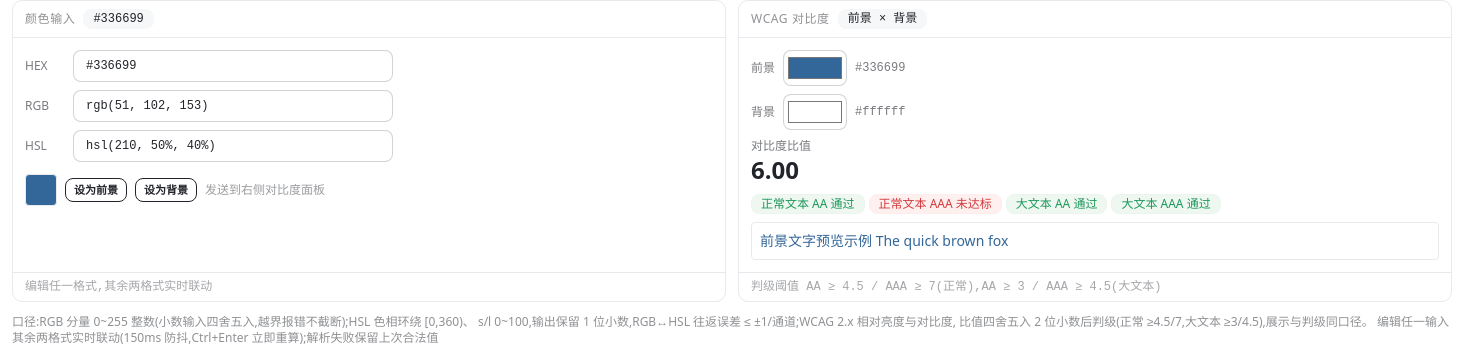
Test: ColorTool 三格式联动与对比度 › 编辑 HSL:HEX 联动
The width and height of the screenshot is (1464, 361).
Type "hsl(120, 100%, 25%)" into the field with test id "color-hsl" at (233, 146), box [73,130,393,162]
Wait 150 ms
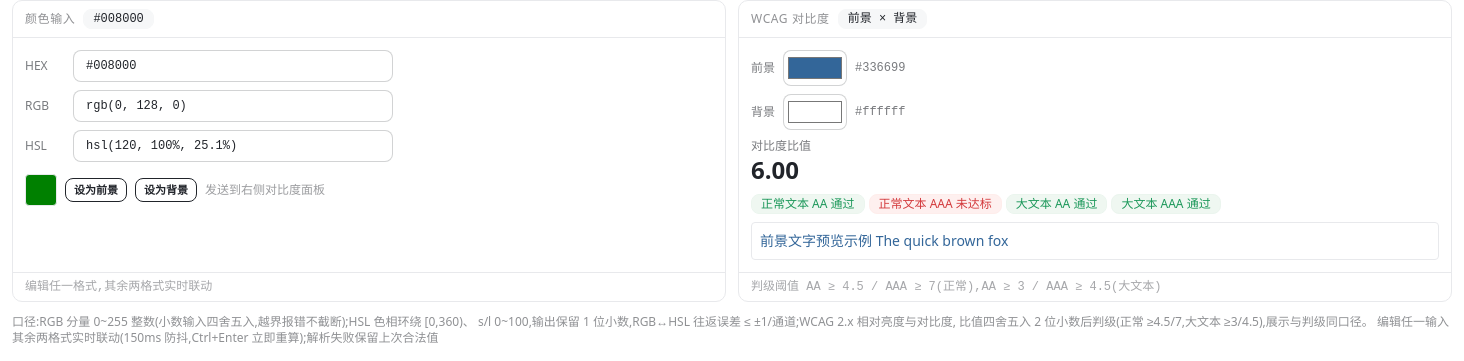
Now the field with test id "color-hex" holds "#008000", box [73,50,393,82]
